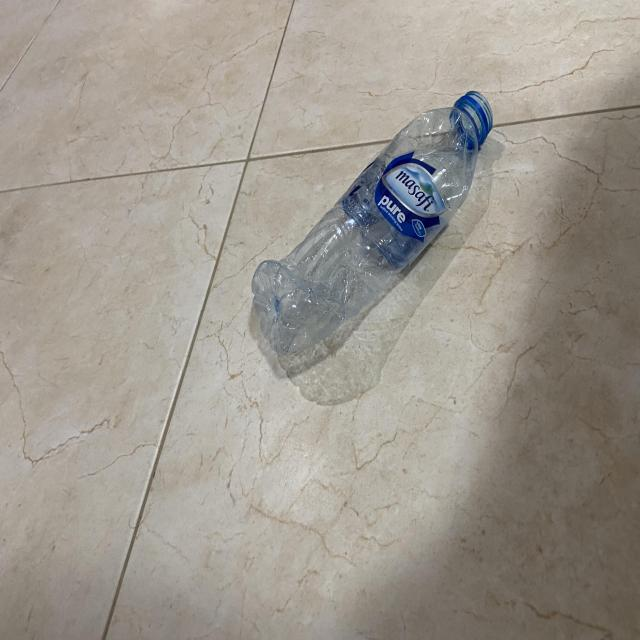bottle: (245, 77, 503, 378)
